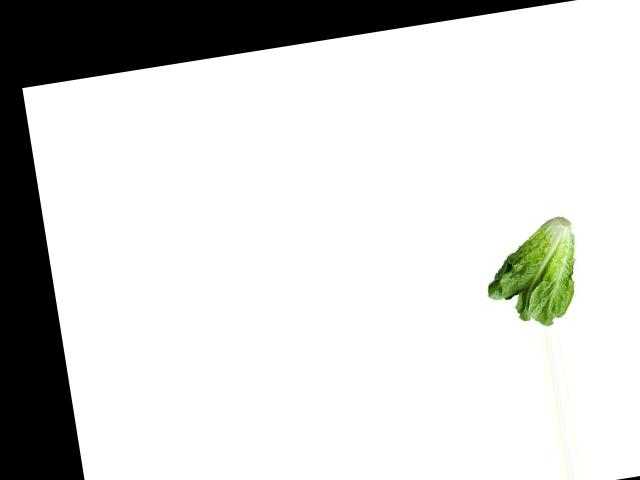lettuce: (474, 214, 591, 336)
